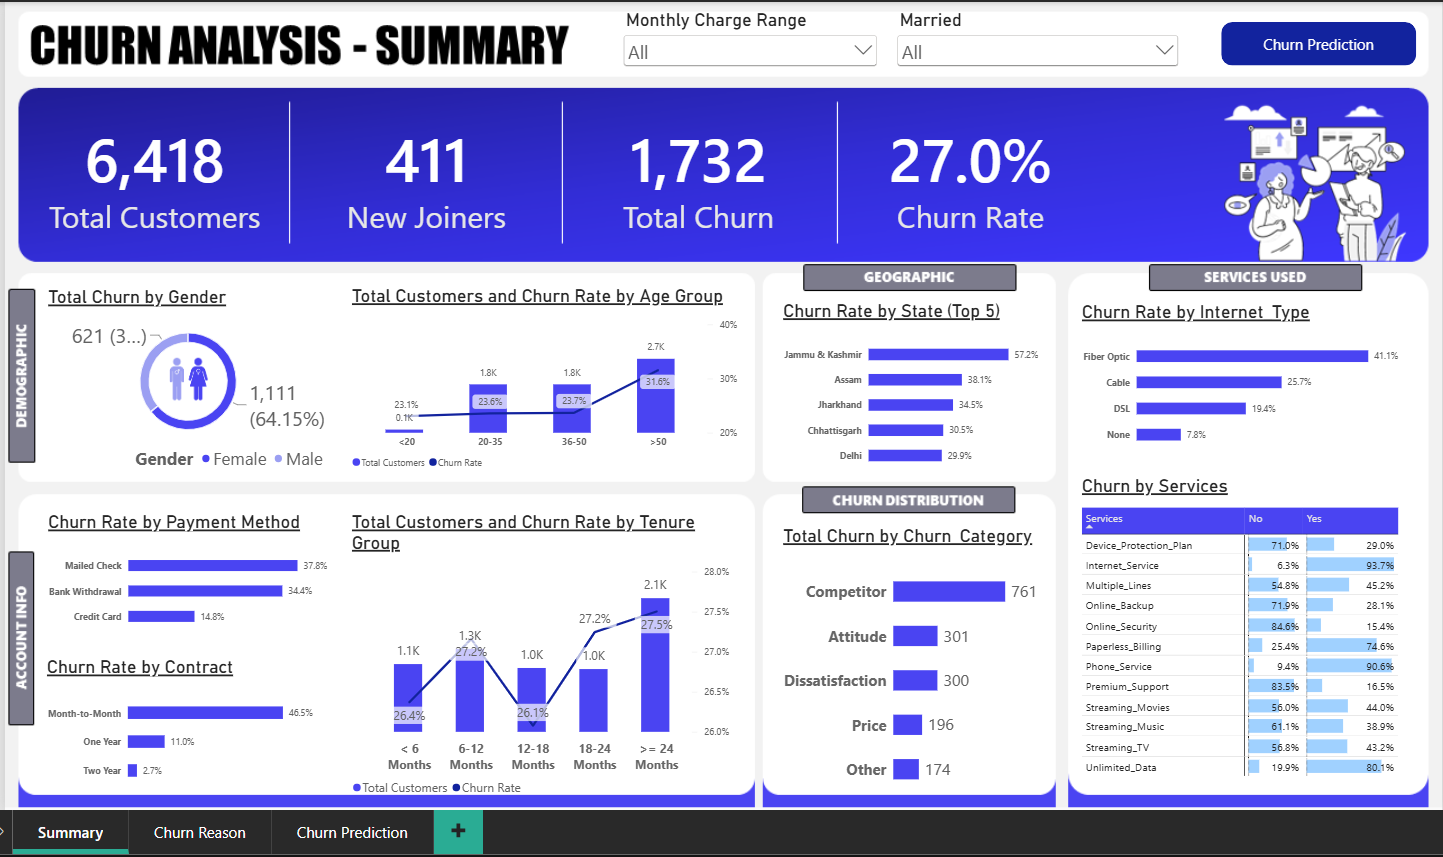

The page's visual inventory and layout, read from the dashboard file:
{"tool":"powerbi","page":{"name":"Summary","canvas":[1920,1080],"ordinal":0},"visuals":[{"type":"image","box":[208,445.4,73.6,114.1],"z":0},{"type":"card","fields":{"Values":["tbl_Measures.Total Customers"]},"box":[21.7,123.3,356.7,216.7],"z":1000},{"type":"card","fields":{"Values":["tbl_Measures.New Joiners"]},"box":[386.7,123.3,351.1,216.7],"z":2000},{"type":"card","fields":{"Values":["tbl_Measures.Total Churn"]},"box":[746.7,123.3,360,216.7],"z":3000},{"type":"card","fields":{"Values":["tbl_Measures.Churn Rate"]},"box":[1118.9,123.3,342.2,216.7],"z":4000},{"type":"donutChart","title":"Total Churn by Gender","fields":{"Category":["prod_Churn.Gender"],"Y":["tbl_Measures.Total Churn"]},"box":[41.4,365.7,405.7,278.6],"z":5000},{"type":"lineStackedColumnComboChart","fields":{"Category":["mapping_AgeGrp.Age Group"],"Y":["tbl_Measures.Total Customers"],"Y2":["tbl_Measures.Churn Rate"]},"box":[447.1,364.3,548.6,280],"z":6000},{"type":"clusteredBarChart","title":"Churn Rate by Payment Method","fields":{"Category":["prod_Churn.Payment_Method"],"Y":["tbl_Measures.Churn Rate"]},"box":[42.3,666.3,404.9,193.3],"z":7000},{"type":"clusteredBarChart","fields":{"Category":["prod_Churn.Contract"],"Y":["tbl_Measures.Churn Rate"]},"box":[40,860,407.1,208.6],"z":8000},{"type":"lineStackedColumnComboChart","fields":{"Category":["mapping_TenureGrp.Tenure Group"],"Y":["tbl_Measures.Total Customers"],"Y2":["tbl_Measures.Churn Rate"]},"box":[447.1,665.7,548.6,414.3],"z":9000},{"type":"clusteredBarChart","title":"Churn Rate by State (Top 5)","fields":{"Category":["prod_Churn.State"],"Y":["tbl_Measures.Churn Rate"]},"box":[1022.9,384.3,372.9,260],"z":10000},{"type":"clusteredBarChart","fields":{"Category":["prod_Churn.Churn_Category"],"Y":["tbl_Measures.Total Churn"]},"box":[1022.9,684.3,371.4,395.7],"z":11000},{"type":"clusteredBarChart","fields":{"Category":["prod_Churn.Internet_Type"],"Y":["tbl_Measures.Churn Rate"]},"box":[1422.9,385.7,481.4,231.4],"z":12000},{"type":"pivotTable","title":"Churn by Services","fields":{"Columns":["prod_Services.Status"],"Rows":["prod_Services.Services"],"Values":["Sum(prod_Services.Churn Status)"]},"box":[1422.9,617.1,481.4,462.9],"z":13000},{"type":"slicer","fields":{"Values":["prod_Services.Monthly Charge Status"]},"box":[820.9,9.2,347.9,93.9],"z":14000},{"type":"slicer","fields":{"Values":["prod_Services.Married"]},"box":[1187.1,9.2,384.7,93.9],"z":15000},{"type":"shape","box":[1625.3,27.5,260.4,58.2],"z":15001}]}

Visuals, with their boxes on the page's 1920x1080 design canvas (x1, y1, x2, y2). These are canvas units, not pixel positions in the 1443x857 screenshot, which may show the page scaled, cropped or inside an application window:
image: box=[208, 445, 282, 560]
card - tbl_Measures.Total Customers: box=[22, 123, 378, 340]
card - tbl_Measures.New Joiners: box=[387, 123, 738, 340]
card - tbl_Measures.Total Churn: box=[747, 123, 1107, 340]
card - tbl_Measures.Churn Rate: box=[1119, 123, 1461, 340]
"Total Churn by Gender" donutChart: box=[41, 366, 447, 644]
lineStackedColumnComboChart - mapping_AgeGrp.Age Group x tbl_Measures.Total Customers: box=[447, 364, 996, 644]
"Churn Rate by Payment Method" clusteredBarChart: box=[42, 666, 447, 860]
clusteredBarChart - prod_Churn.Contract x tbl_Measures.Churn Rate: box=[40, 860, 447, 1069]
lineStackedColumnComboChart - mapping_TenureGrp.Tenure Group x tbl_Measures.Total Customers: box=[447, 666, 996, 1080]
"Churn Rate by State (Top 5)" clusteredBarChart: box=[1023, 384, 1396, 644]
clusteredBarChart - prod_Churn.Churn_Category x tbl_Measures.Total Churn: box=[1023, 684, 1394, 1080]
clusteredBarChart - prod_Churn.Internet_Type x tbl_Measures.Churn Rate: box=[1423, 386, 1904, 617]
"Churn by Services" pivotTable: box=[1423, 617, 1904, 1080]
slicer - prod_Services.Monthly Charge Status: box=[821, 9, 1169, 103]
slicer - prod_Services.Married: box=[1187, 9, 1572, 103]
shape: box=[1625, 28, 1886, 86]
